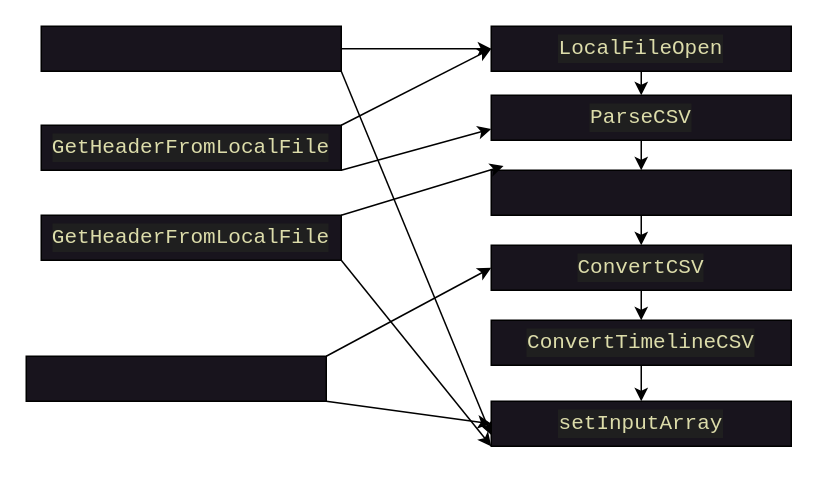
Image size: 818x485. Some labels were removed from this diagram. Each missing label, with the centre of its shape:
"drawFromLocalFile" goes at (190,48).
"DrawNewProperty" goes at (175,378).
"ParseDateCsv" goes at (640,192).
